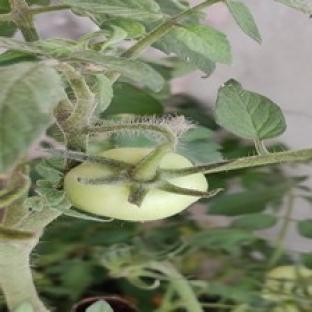Tomato: (65, 162, 199, 221), (262, 265, 311, 310), (232, 304, 264, 311)
